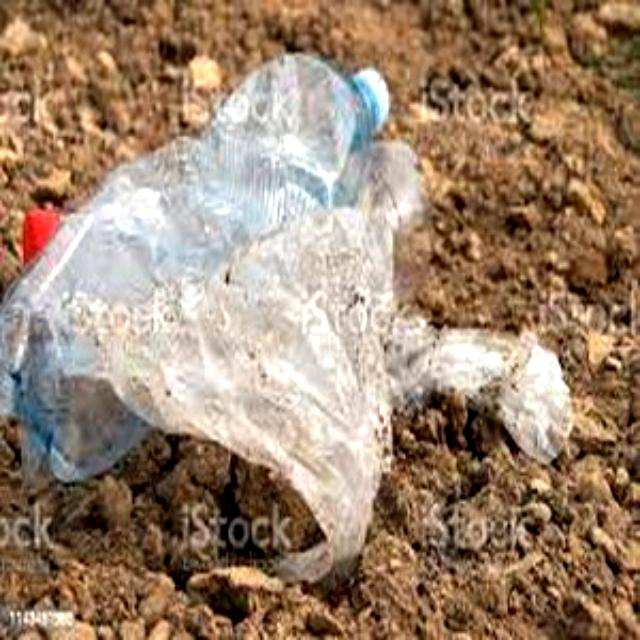Plastic: (0, 51, 396, 479)
